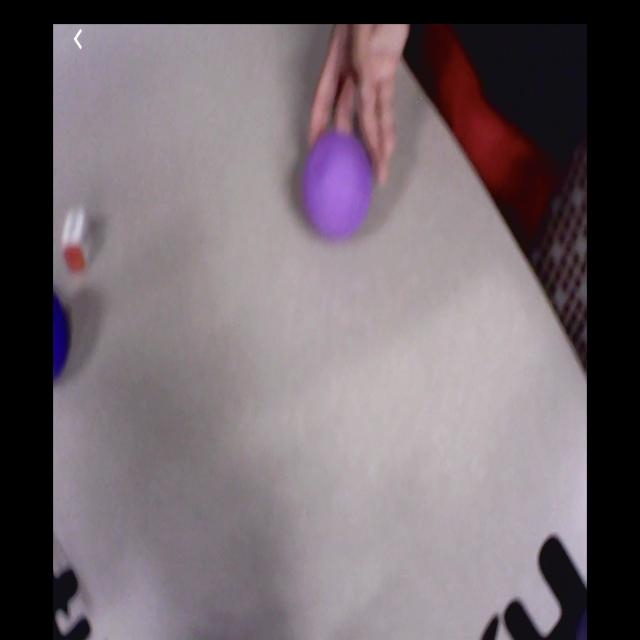ball: (306, 127, 375, 240), (54, 291, 74, 379)
